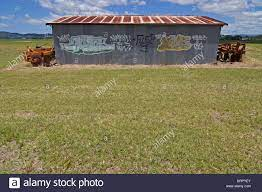Tin-shade House: (48, 13, 226, 73)
